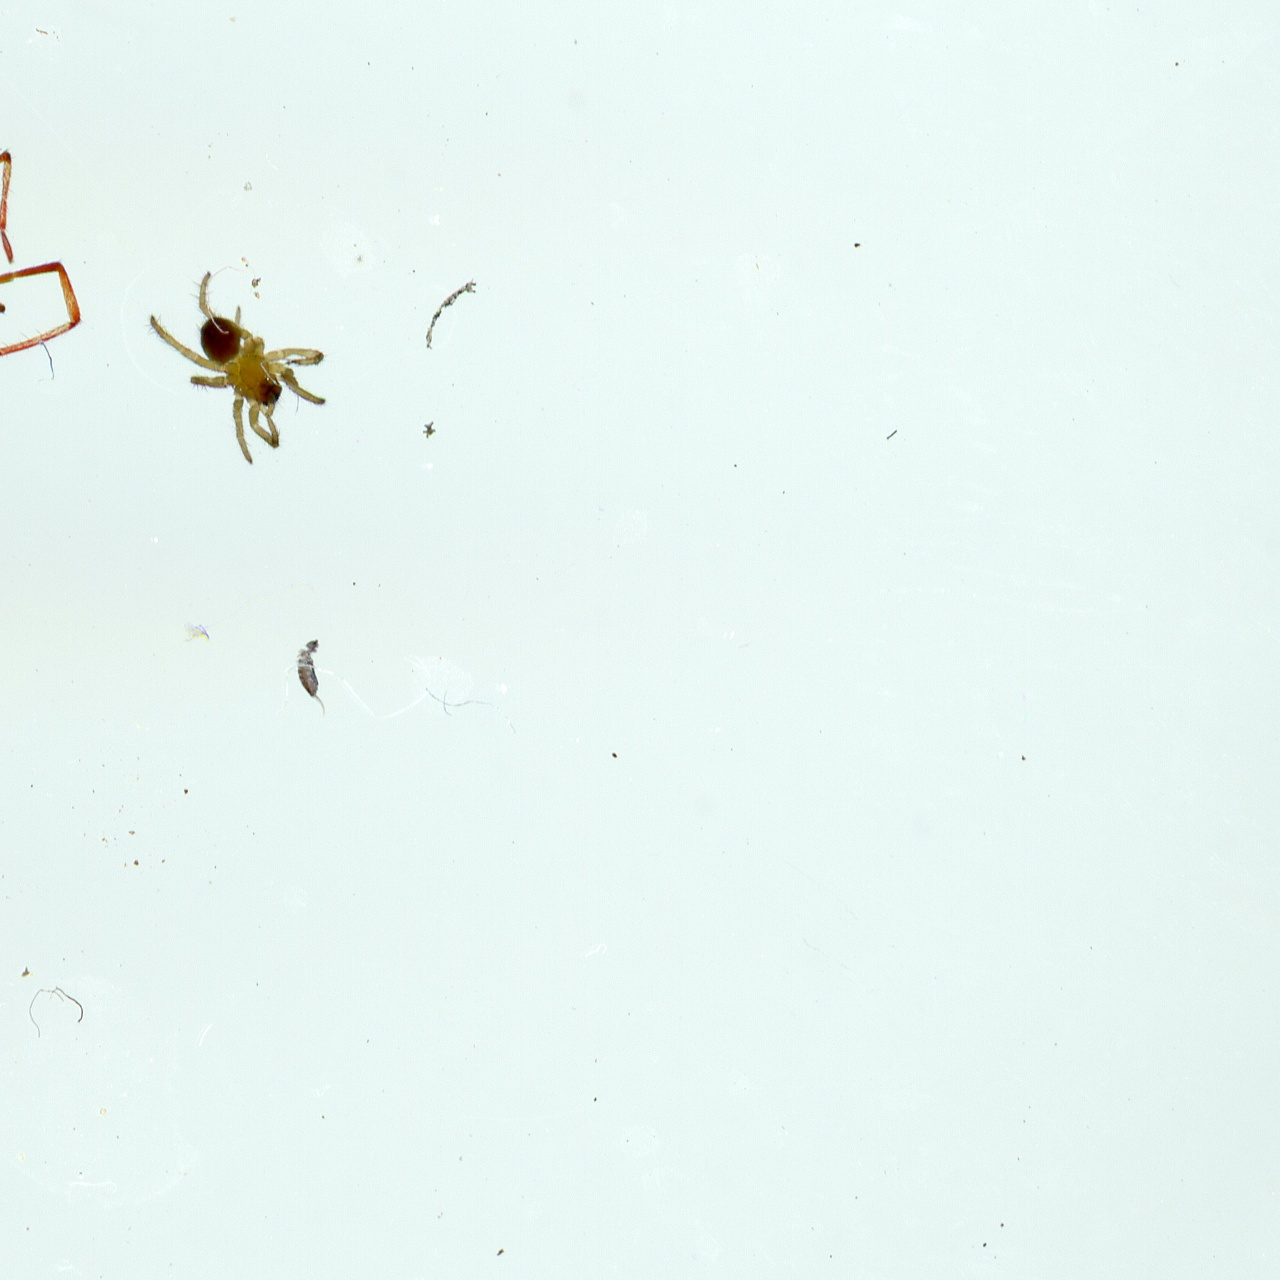arthropod: (0, 127, 145, 557), (128, 234, 362, 477), (282, 631, 346, 724)
